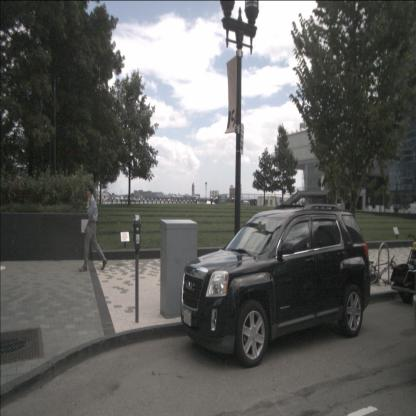human-pedestrian-adult: (79, 184, 107, 272)
vehicle-bicycle: (365, 254, 398, 284)
vehicle-car: (181, 208, 370, 368)
vehicle-motorcycle: (390, 234, 416, 304)
